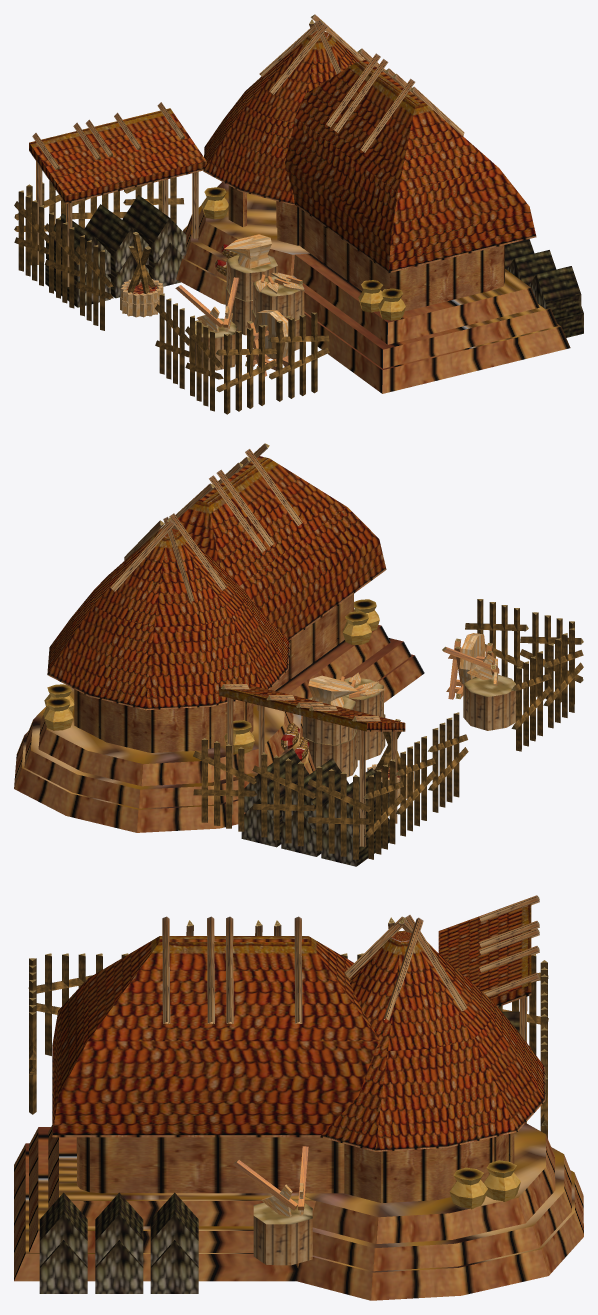
Rendered from forge.dae.
3 renders of one model, top to bottom at view 1: azimuth 30°, elevation 25°; view 2: azimuth 150°, elevation 25°; view 3: azimuth 270°, elevation 25°, orthographic. The views are drawn at different scales.
Parts seen in each view (by area): view 1: forge; view 2: forge; view 3: forge.
Part boxes in pixels (bbox=[...]): forge: bbox=[14, 14, 583, 414]; forge: bbox=[14, 443, 583, 866]; forge: bbox=[14, 895, 583, 1300].
Bounding box in the file's own units: 26 × 26.77 × 16.21.
